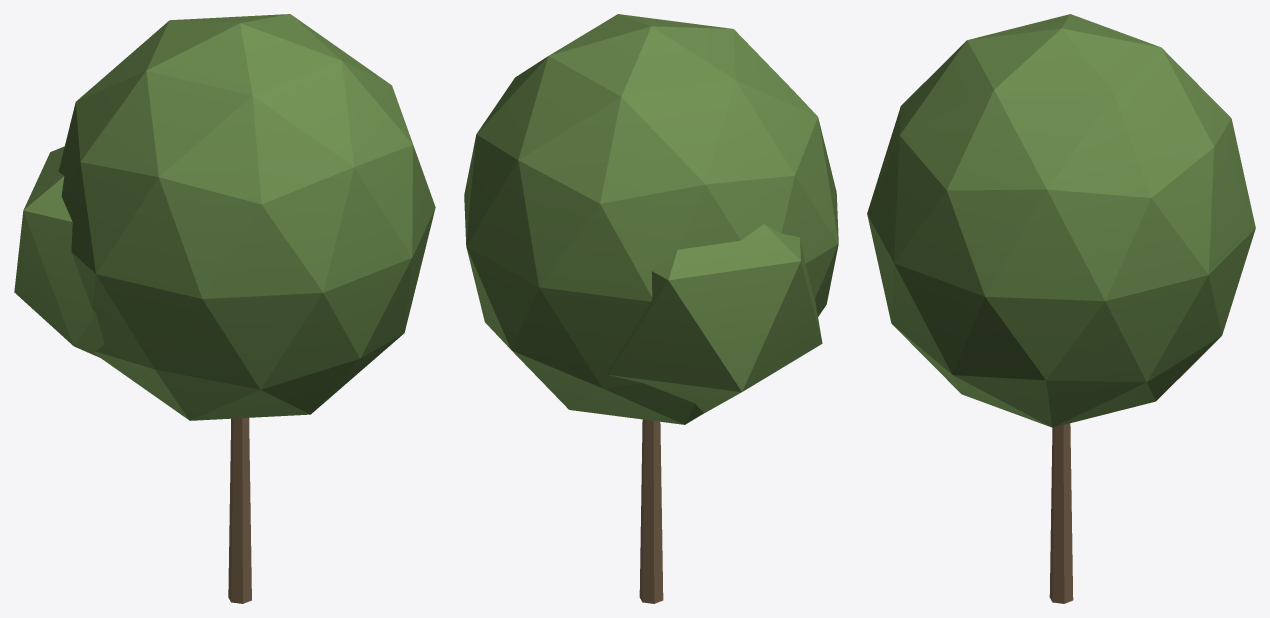
3 renders of one model, left to right at view 1: azimuth 30°, elevation 25°; view 2: azimuth 150°, elevation 25°; view 3: azimuth 270°, elevation 25°, orthographic.
Parts seen in each view (by area): view 1: tree_4027; view 2: tree_4027; view 3: tree_4027.
Boxes of the visible parts, <box> form: tree_4027: <box>14,14,435,603</box>; tree_4027: <box>464,14,838,603</box>; tree_4027: <box>867,14,1255,603</box>.
Size of the model in its own units: 7.32 by 11.51 by 7.11.
